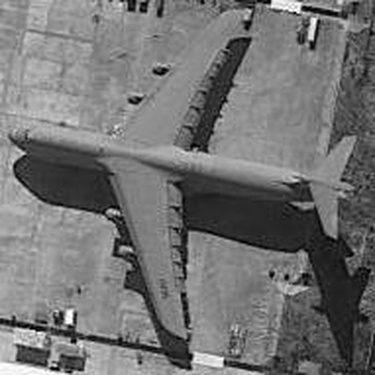airplane: (8, 8, 361, 346)
